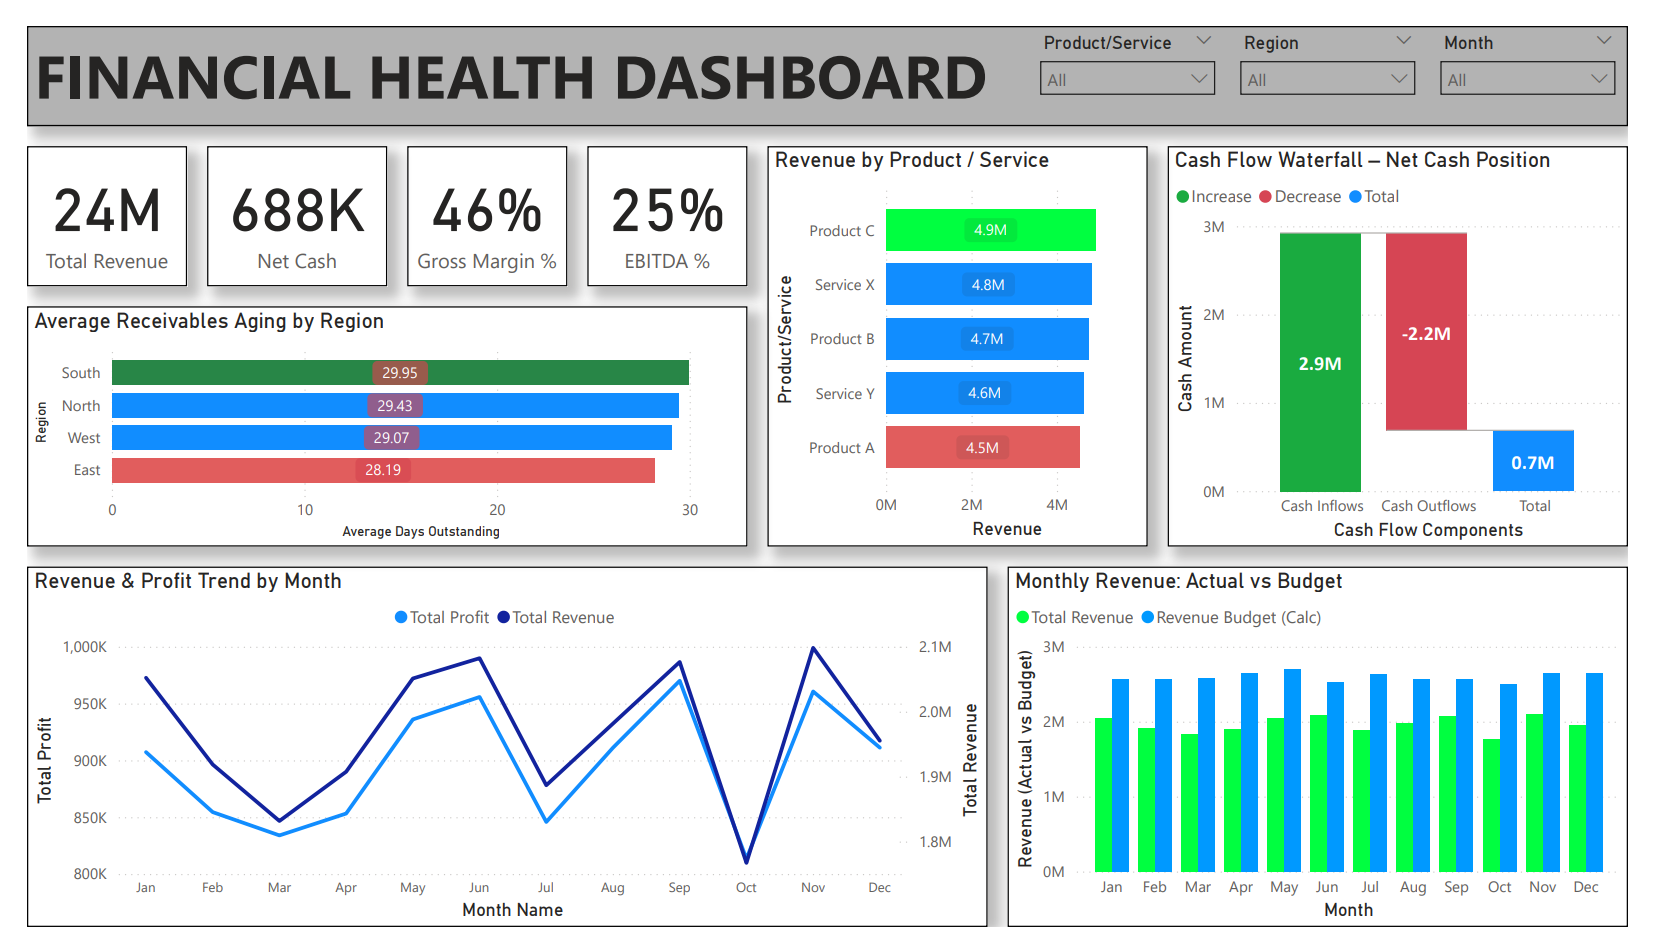

Layout of this report page (visuals, bound fields, positions):
{"tool":"powerbi","page":{"name":"Page 1","canvas":[1280,720],"ordinal":0},"visuals":[{"type":"textbox","box":[0,0,1280,80],"z":0},{"type":"card","fields":{"Values":["Table1.Total Revenue"]},"box":[0,96,128,112],"z":1000},{"type":"card","fields":{"Values":["Table1.Gross Margin %"]},"box":[304,96,128,112],"z":2000},{"type":"card","fields":{"Values":["Table1.EBITDA %"]},"box":[448,96,128,112],"z":3000},{"type":"card","fields":{"Values":["Table1.Net Cash"]},"box":[144,96,144,112],"z":4000},{"type":"slicer","fields":{"Values":["Table1.Month"]},"box":[1120,0,160,80],"z":5000},{"type":"slicer","fields":{"Values":["Table1.Region"]},"box":[960,0,160,80],"z":6000},{"type":"slicer","fields":{"Values":["Table1.Product/Service"]},"box":[800,0,160,80],"z":7000},{"type":"lineChart","title":"Revenue & Profit Trend by Month","fields":{"Category":["Table1.Month Name"],"Y":["Table1.Profit"],"Y2":["Table1.Total Revenue"]},"box":[0,432,768,288],"z":8000},{"type":"waterfallChart","title":"Cash Flow Waterfall – Net Cash Position","fields":{"Category":["Cash Flow Waterfall.Type"],"Y":["Sum(Cash Flow Waterfall.Amount)"]},"box":[912,96,368,320],"z":9000},{"type":"clusteredColumnChart","title":"Monthly Revenue: Actual vs Budget","fields":{"Category":["Table1.Month Name"],"Y":["Table1.Total Revenue","Table1.Revenue Budget (Calc)"]},"box":[784,432,496,288],"z":10000},{"type":"barChart","title":"Revenue by Product / Service","fields":{"Category":["Table1.Product/Service"],"Y":["Table1.Total Revenue"]},"box":[592,96,304,320],"z":11000},{"type":"barChart","title":"Average Receivables Aging by Region","fields":{"Category":["Table1.Region"],"Y":["Avg(Table1.Receivables Aging (Days))"]},"box":[0,224,576,192],"z":12000}]}

Visuals, with their boxes in screenshot pixels (x1, y1, x2, y2), scaled from the page's 1280x720 canvas onto the 1654x952 screenshot:
textbox: [0, 0, 1653, 106]
card - Table1.Total Revenue: [0, 127, 165, 275]
card - Table1.Gross Margin %: [393, 127, 558, 275]
card - Table1.EBITDA %: [579, 127, 744, 275]
card - Table1.Net Cash: [186, 127, 372, 275]
slicer - Table1.Month: [1447, 0, 1653, 106]
slicer - Table1.Region: [1240, 0, 1447, 106]
slicer - Table1.Product/Service: [1034, 0, 1240, 106]
"Revenue & Profit Trend by Month" lineChart: [0, 571, 992, 951]
"Cash Flow Waterfall – Net Cash Position" waterfallChart: [1178, 127, 1653, 550]
"Monthly Revenue: Actual vs Budget" clusteredColumnChart: [1013, 571, 1653, 951]
"Revenue by Product / Service" barChart: [765, 127, 1158, 550]
"Average Receivables Aging by Region" barChart: [0, 296, 744, 550]
